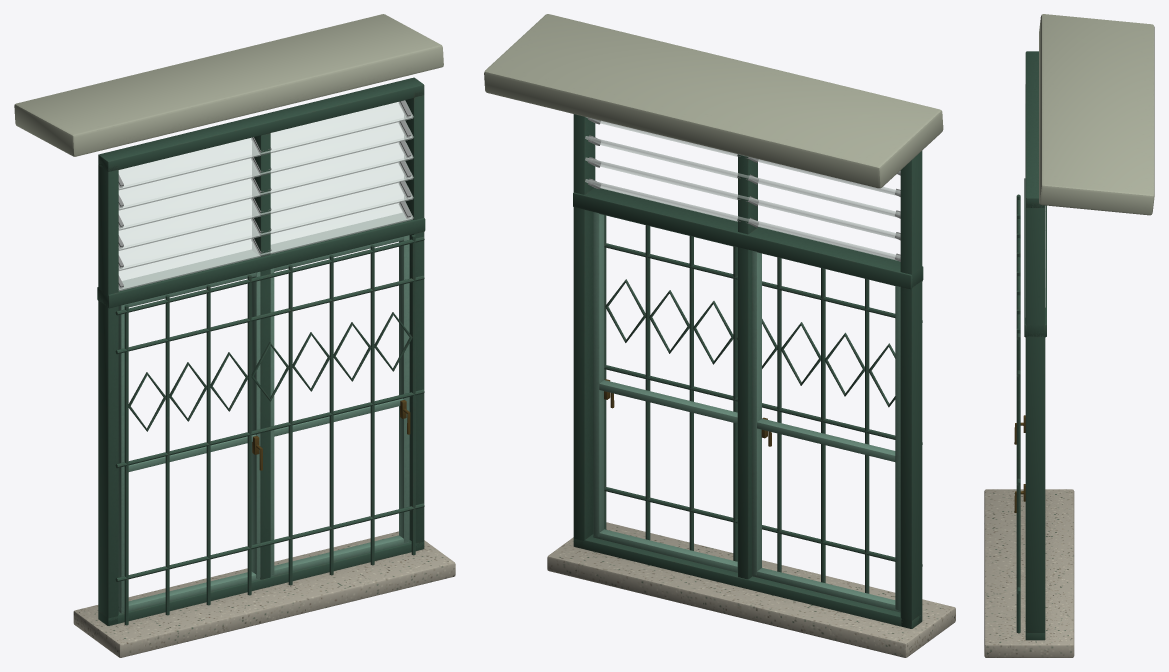
The model's file is CTCC_ENV_SteelWindow_Narrow.fbx.
3 views of the same model, side by side, from view 1: azimuth 30°, elevation 25°; view 2: azimuth 150°, elevation 25°; view 3: azimuth 270°, elevation 25° (orthographic). The views are drawn at different scales.
Visible parts, largest first — view 1: CTCC_ENV_SteelWindow_Narrow_LOD0; view 2: CTCC_ENV_SteelWindow_Narrow_LOD0; view 3: CTCC_ENV_SteelWindow_Narrow_LOD0.
Part boxes in pixels (x1=…): CTCC_ENV_SteelWindow_Narrow_LOD0: x1=14, y1=14, x2=455, y2=657; CTCC_ENV_SteelWindow_Narrow_LOD0: x1=484, y1=14, x2=955, y2=657; CTCC_ENV_SteelWindow_Narrow_LOD0: x1=984, y1=14, x2=1154, y2=657.
Size of what is drawn, in the model's own units: 1.5 by 1.95 by 0.6252.
